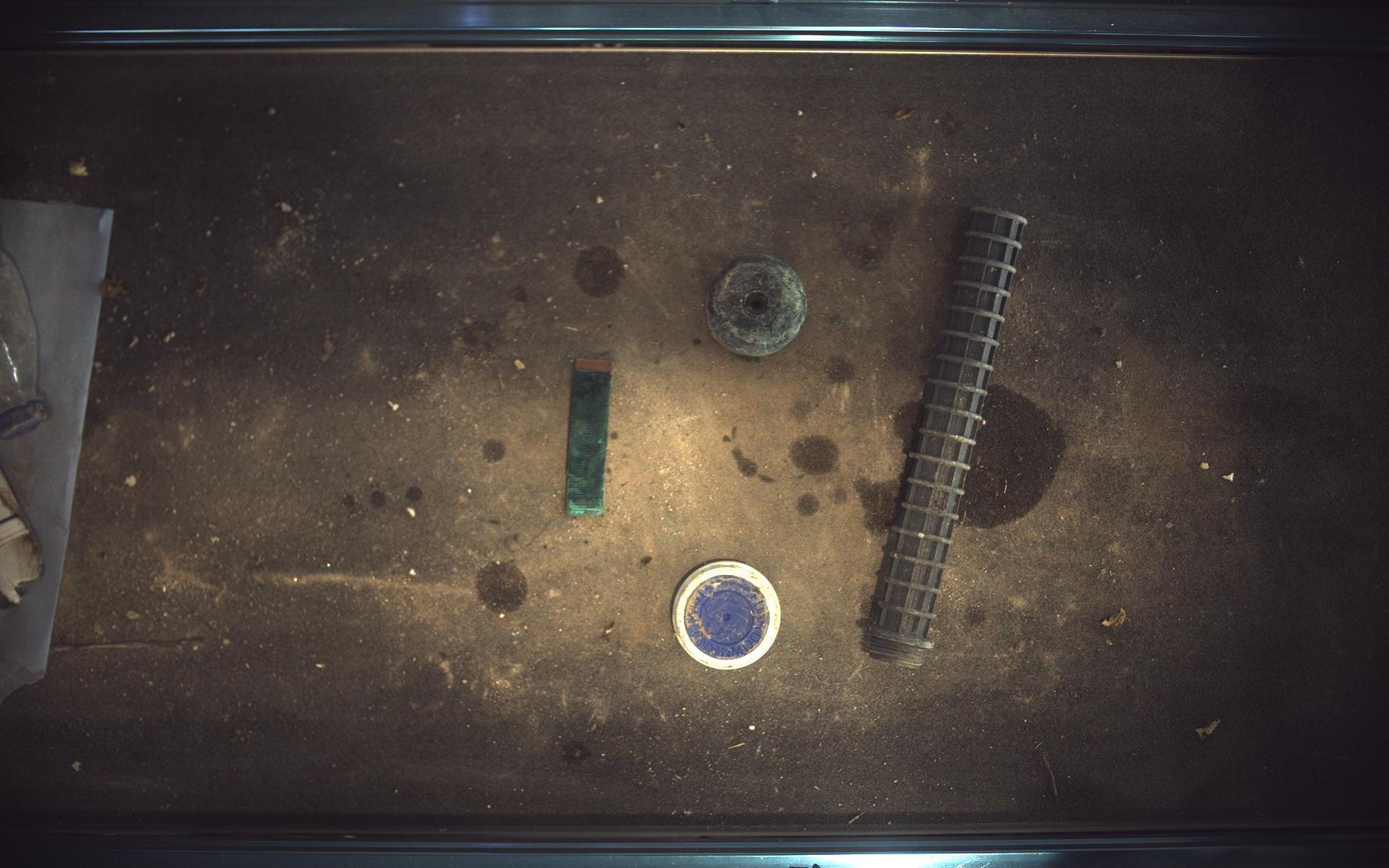general_w: (673, 561, 781, 671)
plastic: (865, 206, 1029, 669), (708, 255, 808, 357), (567, 359, 613, 516)
